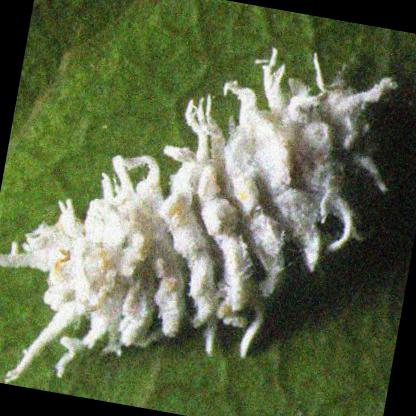mealy bug: (0, 56, 393, 374)
